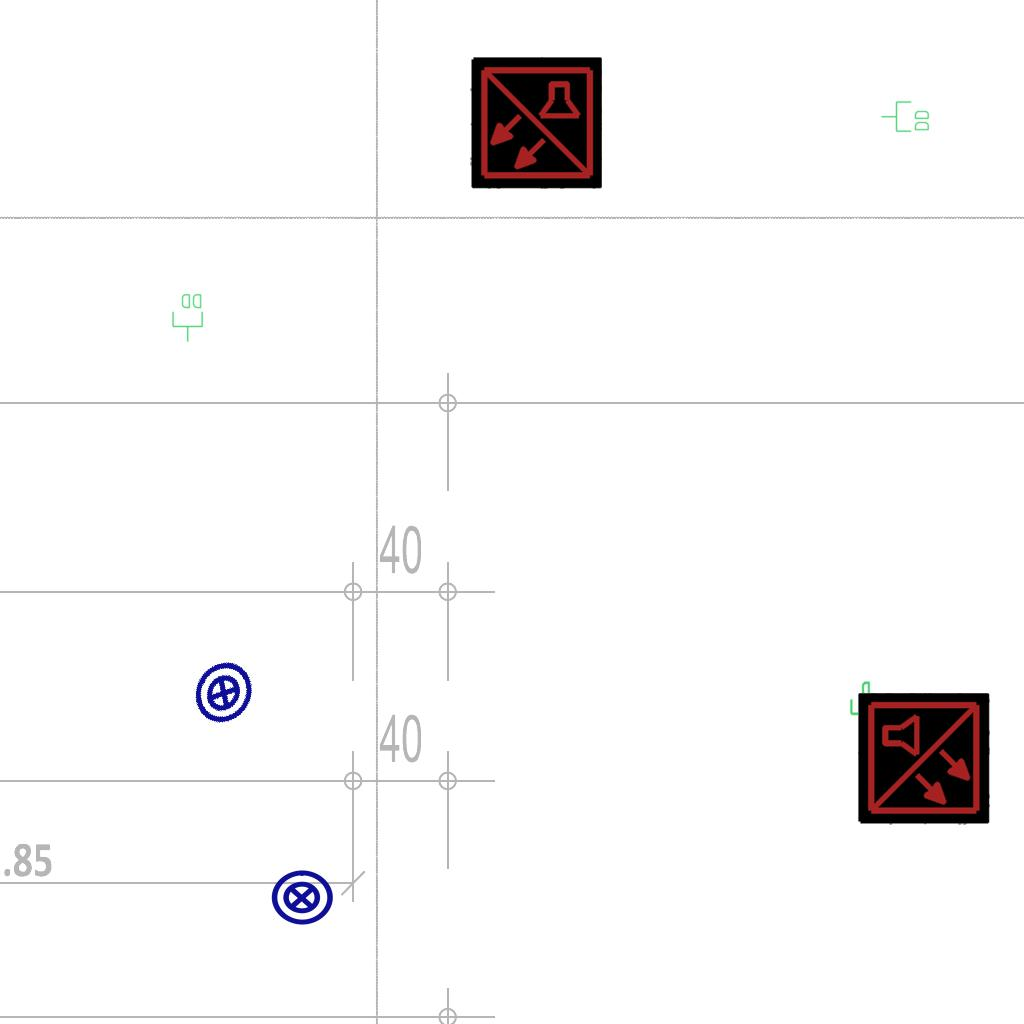Datenanschluss_einfach: (846, 680, 880, 730)
Datenanschluss_zweifach: (171, 292, 205, 343), (880, 100, 931, 134)
OKW_Multisensormelder_(Kombination_optischer_Rauch-Kahlenmonoxid_Waerme-Melder): (470, 57, 602, 189), (858, 693, 990, 825)
Taster_beleuchtet: (179, 648, 269, 738), (269, 865, 335, 931)
